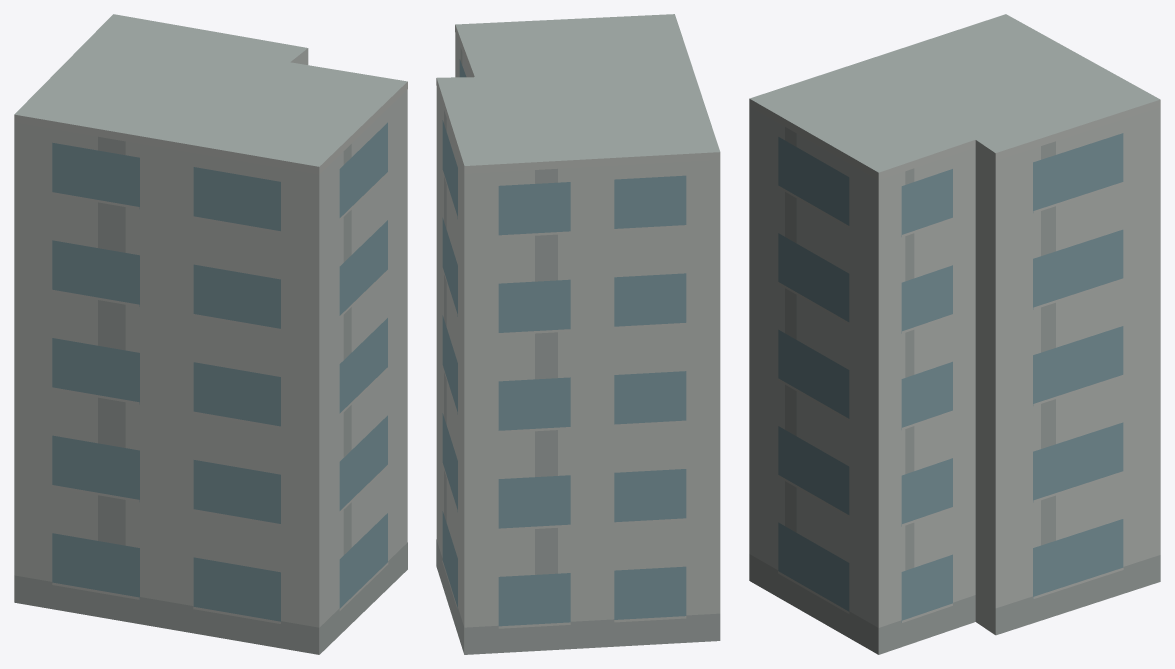
File: survey-upis-32729718.glb
3 views of the same model, side by side, from view 1: azimuth 30°, elevation 25°; view 2: azimuth 150°, elevation 25°; view 3: azimuth 270°, elevation 25° (orthographic).
Parts seen in each view (by area): view 1: survey-upis-32729718.tmp; view 2: survey-upis-32729718.tmp; view 3: survey-upis-32729718.tmp.
Boxes of the visible parts, left/top/right/bottom form: survey-upis-32729718.tmp: left=14, top=14, right=407, bottom=654; survey-upis-32729718.tmp: left=436, top=14, right=720, bottom=654; survey-upis-32729718.tmp: left=749, top=14, right=1160, bottom=654.
Size of the model in its own units: 10.77 by 15.25 by 11.79.
